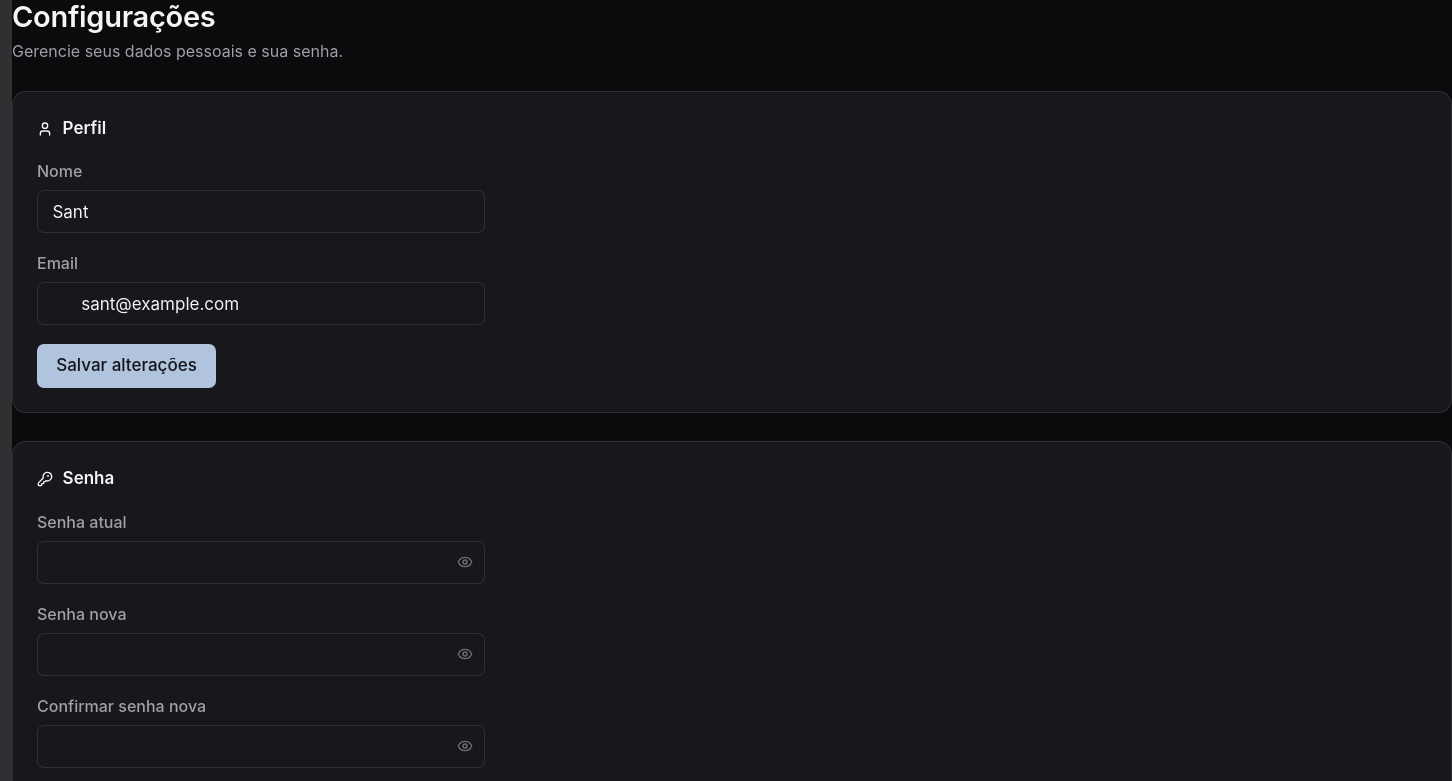
ConfiguracoesPage › troca a senha com sucesso e limpa os campos
Expected: the field showing "Sant" is shown, x1=37 y1=190 x2=485 y2=233
Type "senhaAtual123" into the password field labelled "Senha atual" at (261, 562), box x1=37 y1=541 x2=485 y2=584
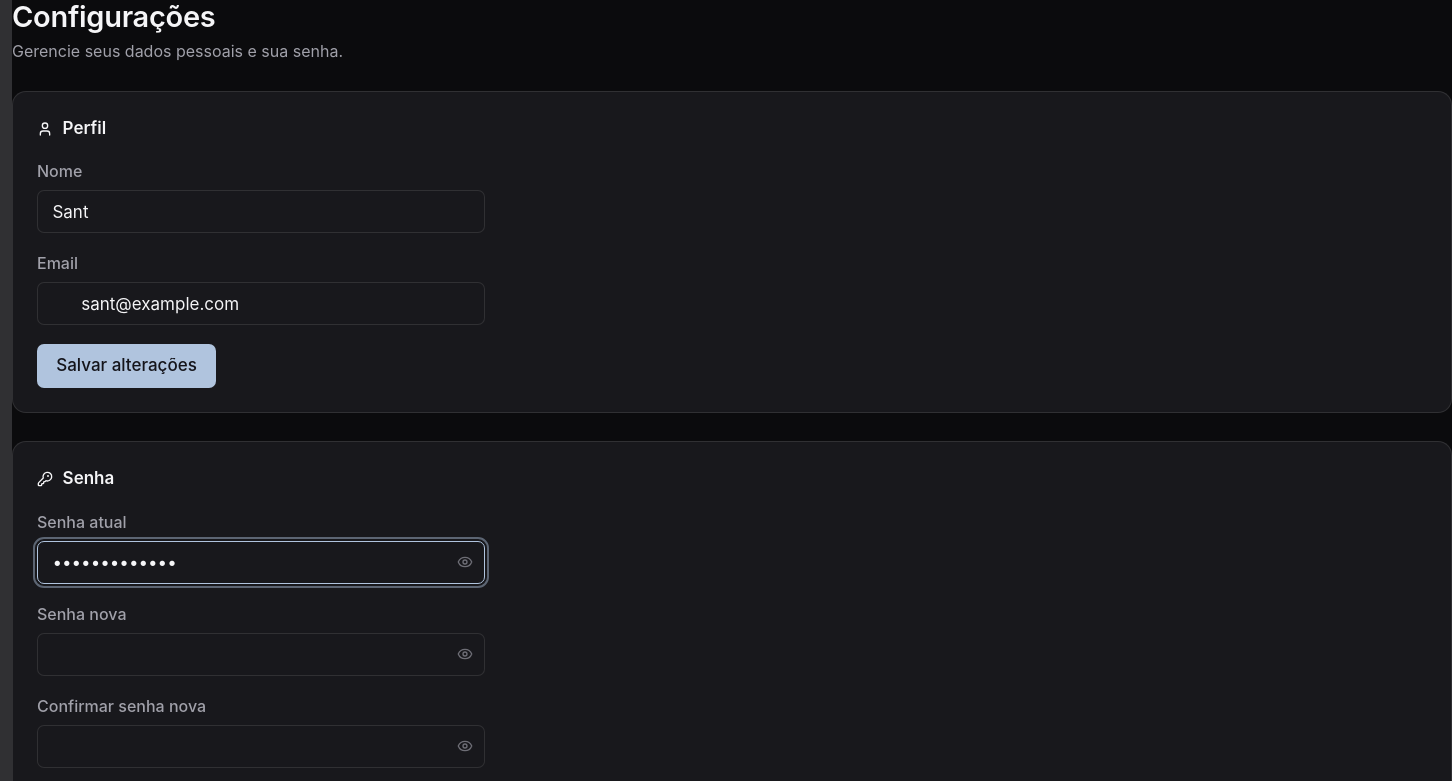
Type "senhaNova123" into the password field labelled "Senha nova" at (261, 654), box x1=37 y1=633 x2=485 y2=676
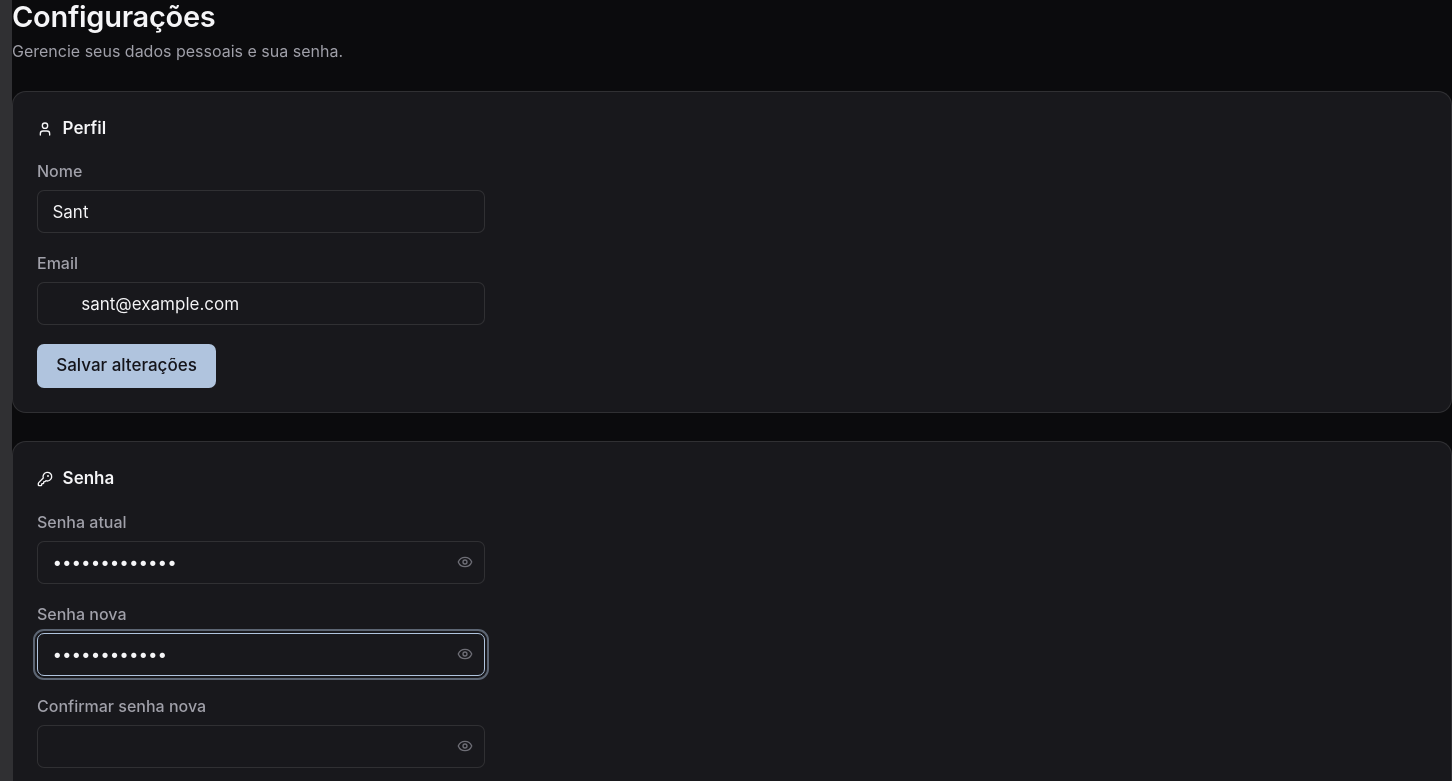
Type "senhaNova123" into the password field labelled "Confirmar senha nova" at (261, 746), box x1=37 y1=724 x2=485 y2=768
(page scrolled)
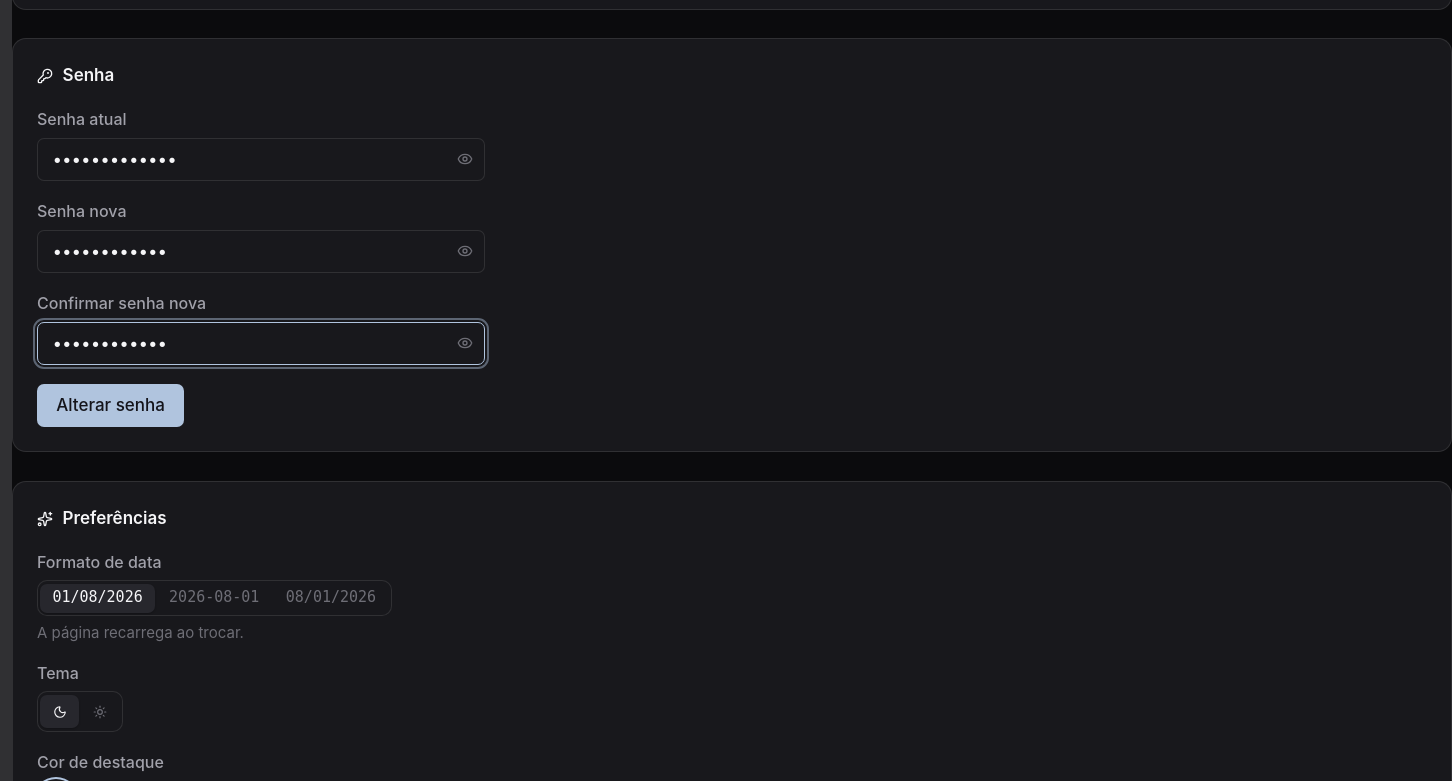
Click the button "Alterar senha" at (111, 406), box x1=37 y1=384 x2=184 y2=427
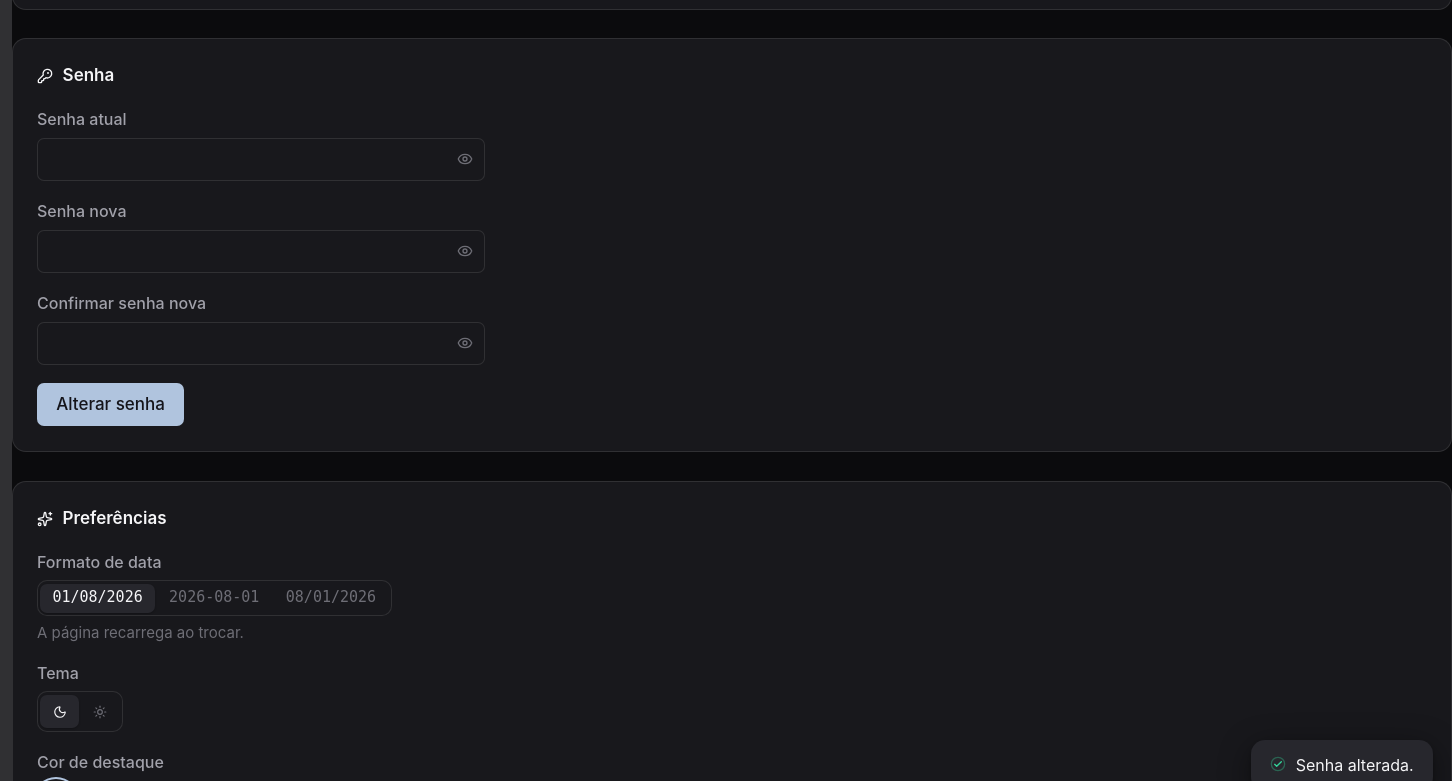
Now the text "Senha alterada." is shown, box x1=1296 y1=754 x2=1414 y2=776
Now the password field labelled "Senha atual" is empty, box x1=37 y1=138 x2=485 y2=181
